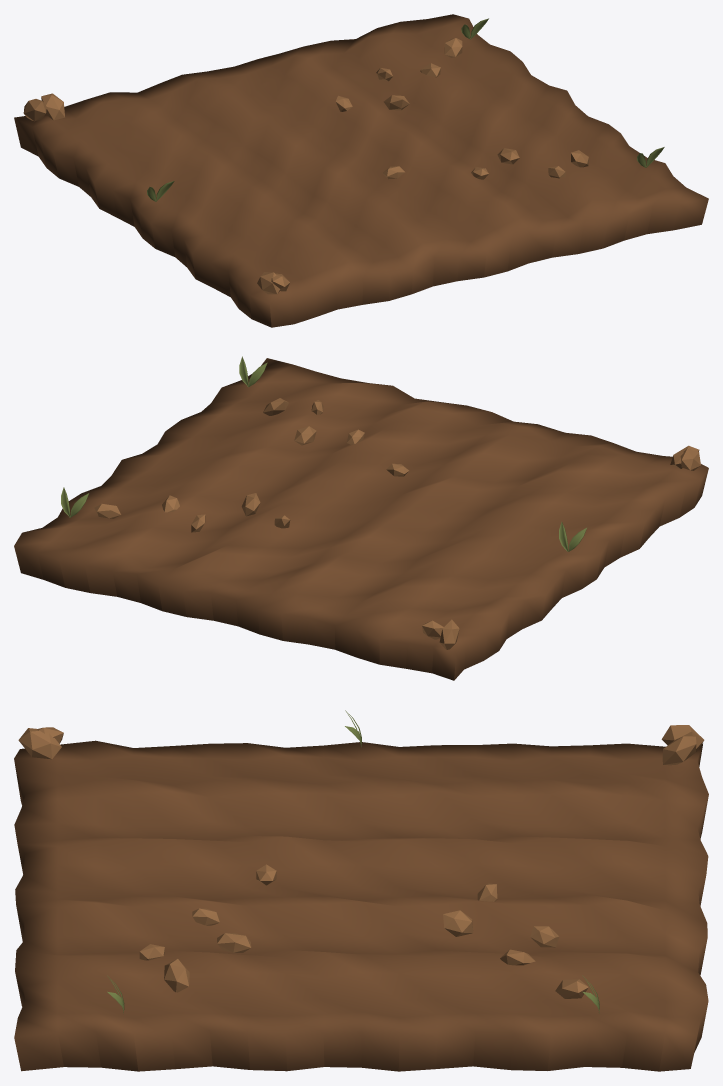
Rendered from parcela_seca.glb.
The picture shows the model from 3 angles, top to bottom: view 1: azimuth 30°, elevation 25°; view 2: azimuth 150°, elevation 25°; view 3: azimuth 270°, elevation 25°; orthographic projection. The views are drawn at different scales.
Parts seen in each view (by area): view 1: parcela_seca; view 2: parcela_seca; view 3: parcela_seca.
Part boxes in pixels (x1=…): parcela_seca: x1=14, y1=14, x2=708, y2=327; parcela_seca: x1=14, y1=356, x2=708, y2=680; parcela_seca: x1=14, y1=710, x2=708, y2=1071.
Size of the model in its own units: 1.41 by 0.1694 by 1.4.
